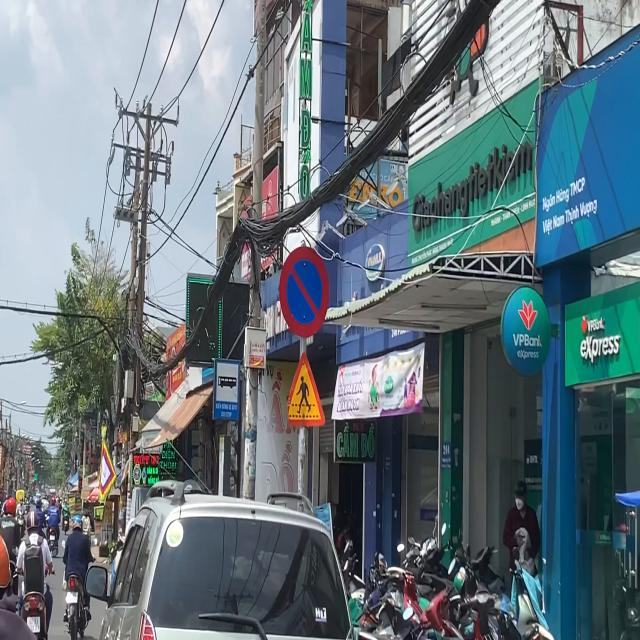Ben xe buyt: (213, 358, 239, 420)
Cam do: (279, 245, 330, 338)
Nguoi di bo cat ngang: (286, 351, 325, 429)
